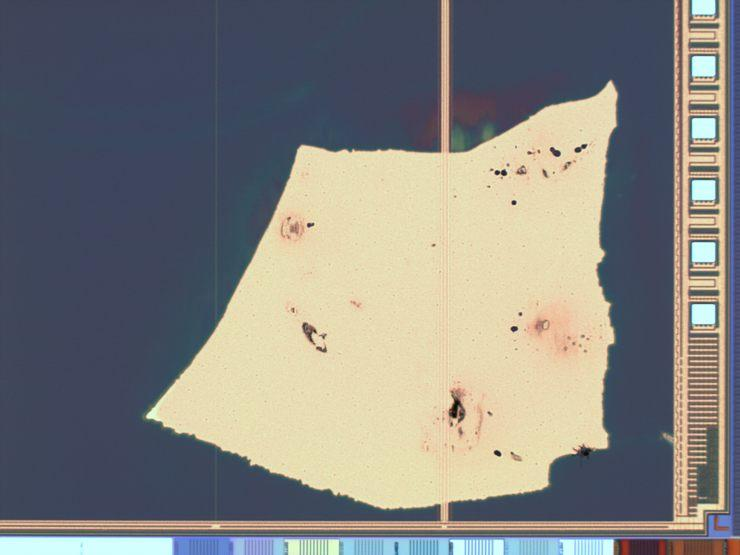BLOCK ETCH: (144, 78, 624, 513)
